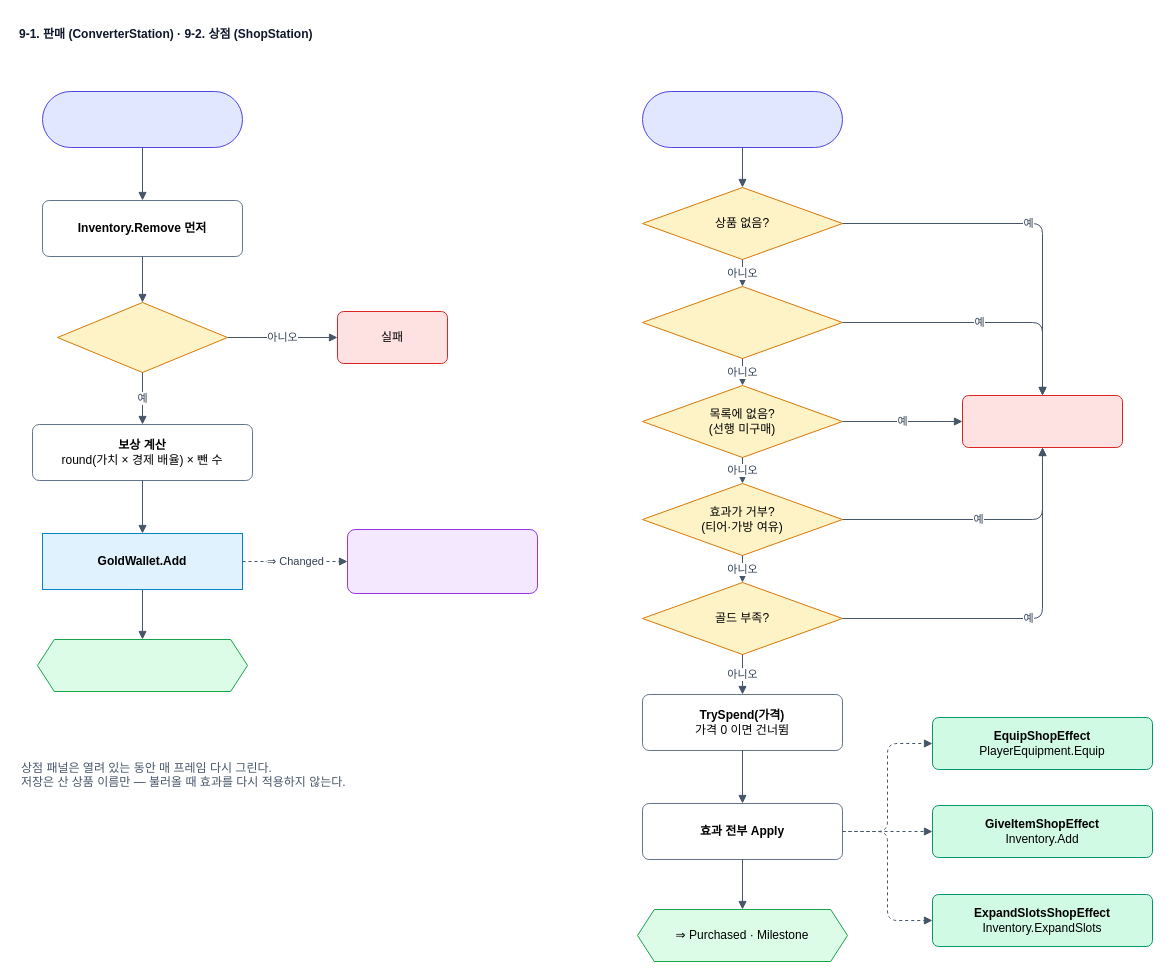
This 1170x979 diagram has some shape labels left out. The shapes that lost their labels are listed below. From the top down, each one's centre as x and y in pixels, then its label:
point 142,119: [팔기] SellPanelView
point 742,119: [구매] → TryBuy
point 142,337: 뺀 수량 > 0 ?
point 742,322: 1회성 && 이미 삼?
point 1042,421: ⇒ Refused(사유)
point 442,561: 판매 패널 다시 그림 Inventory · Gold Changed 둘 다 구독
point 142,665: ⇒ Converted · Milestone
